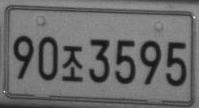0: (36, 35, 59, 81)
3: (88, 38, 110, 82)
5: (114, 39, 136, 85), (165, 41, 187, 87)
9: (139, 39, 161, 85), (12, 35, 34, 79)
조: (62, 45, 83, 82)
